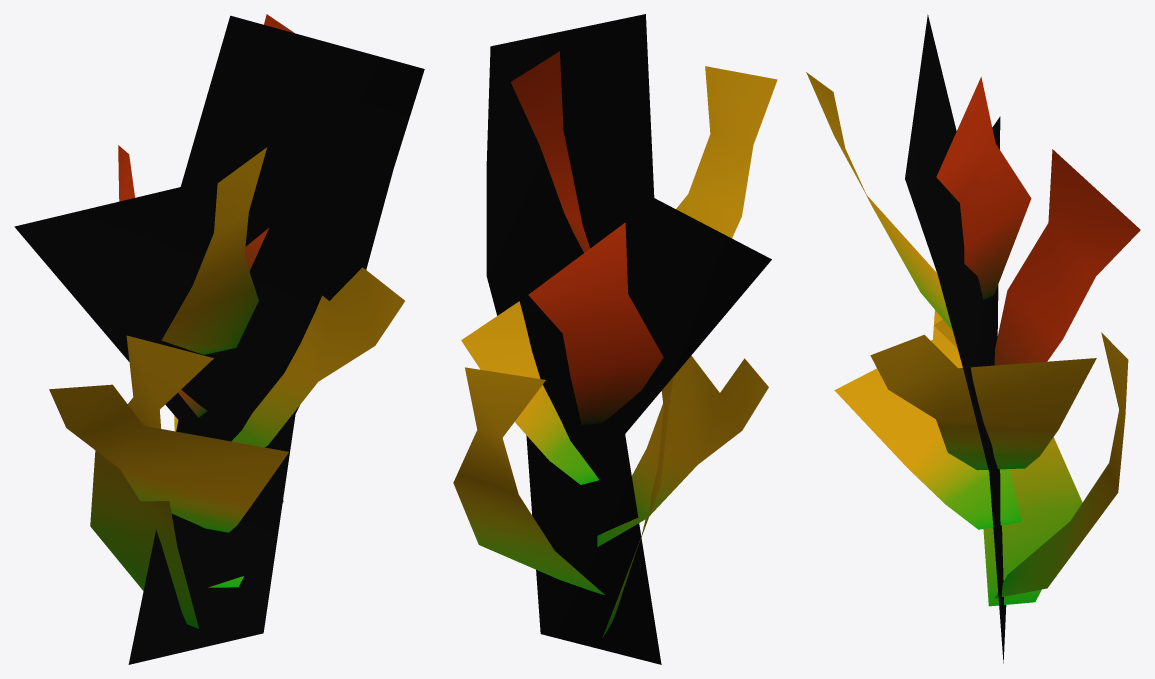
File: Var4Hi20.fbx
3 renders of one model, left to right at view 1: azimuth 30°, elevation 25°; view 2: azimuth 150°, elevation 25°; view 3: azimuth 270°, elevation 25°, orthographic. The views are drawn at different scales.
Visible parts, largest first — view 1: bend1; view 2: bend1; view 3: bend1.
Boxes of the visible parts, x1,y1,x2,y2 form: bend1: [14, 14, 424, 664]; bend1: [453, 14, 777, 664]; bend1: [806, 14, 1140, 663].
Bounding box in the file's own units: 1.3 × 2.3 × 1.13.
